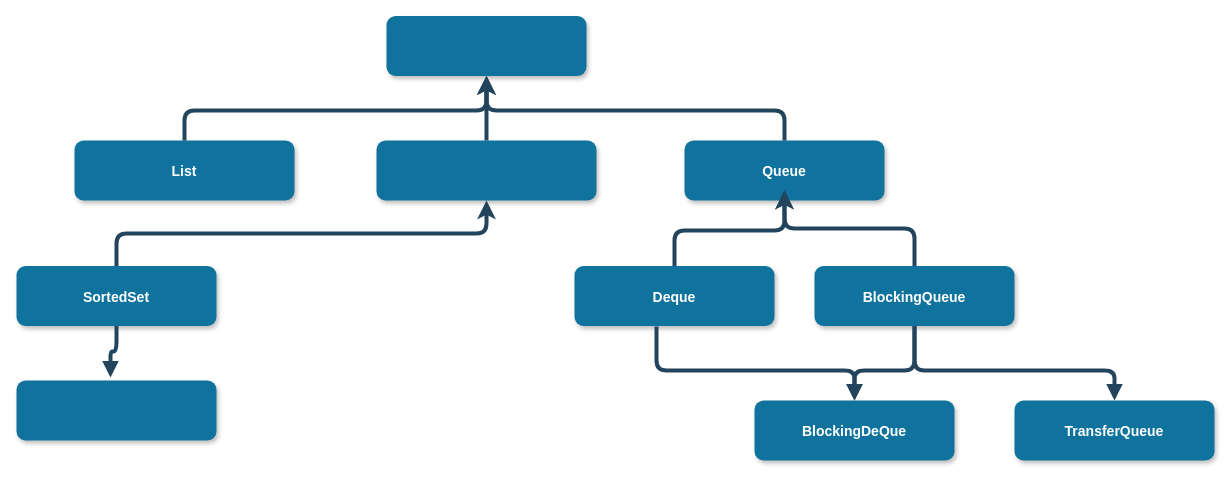
This 1231x477 diagram has some shape labels left out. Here are the shapes that lost their labels. From the top down, the centre of each, then its label:
(x=487, y=47): Collection
(x=487, y=171): Set
(x=117, y=411): NavigableSet
